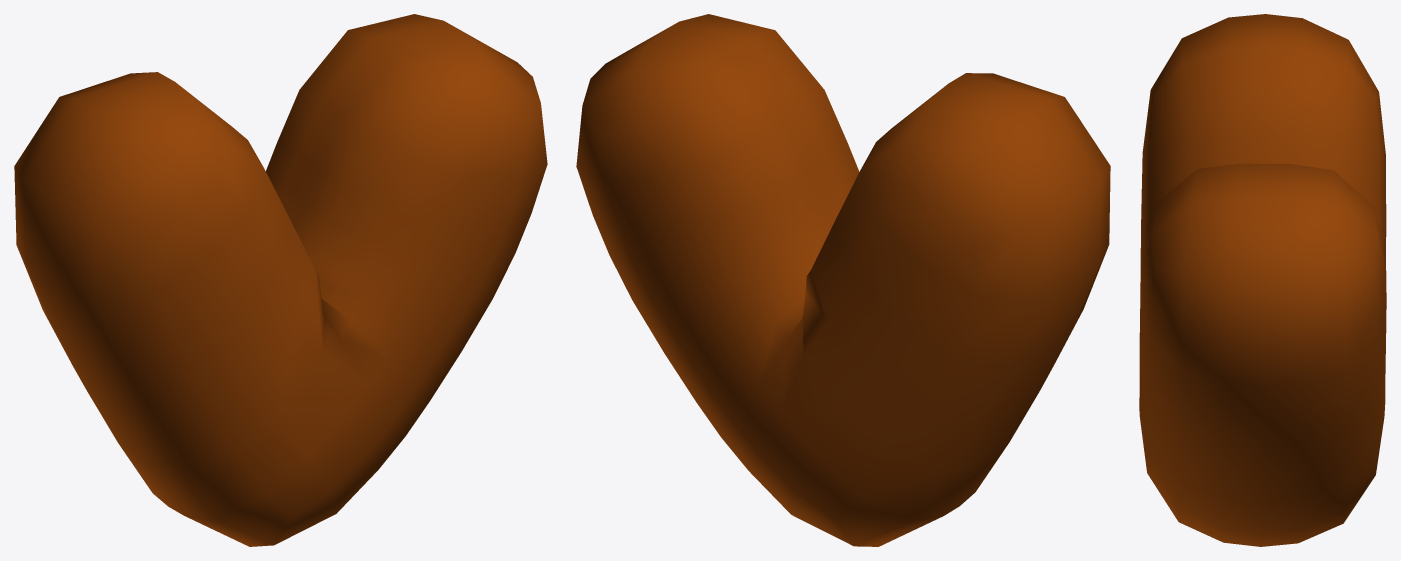
3 views of the same model, side by side, from view 1: azimuth 30°, elevation 25°; view 2: azimuth 150°, elevation 25°; view 3: azimuth 270°, elevation 25° (orthographic). The views are drawn at different scales.
Parts seen in each view (by area): view 1: Object_46; view 2: Object_46; view 3: Object_46.
Boxes of the visible parts, left/top/right/bottom form: Object_46: left=14, top=14, right=547, bottom=546; Object_46: left=576, top=14, right=1110, bottom=546; Object_46: left=1139, top=14, right=1386, bottom=546.
Size of the model in its own units: 95.77 by 87.52 by 42.92.
